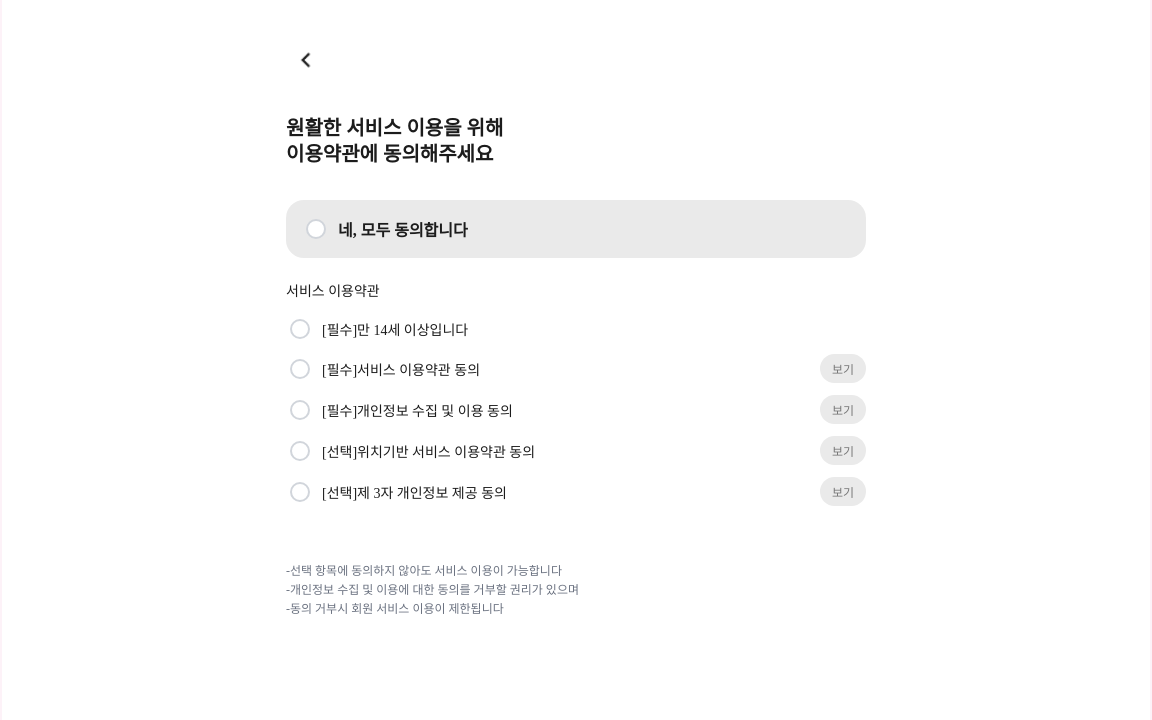
Test: RegisterPage › Step 1 - 약관 동의 › '모두 동의' 해제 시 모든 항목이 해제된다
The width and height of the screenshot is (1152, 720).
// 모두 동의 체크
Click the checkbox next to "네, 모두 동의합니다" at (316, 229), box [306, 219, 326, 239]
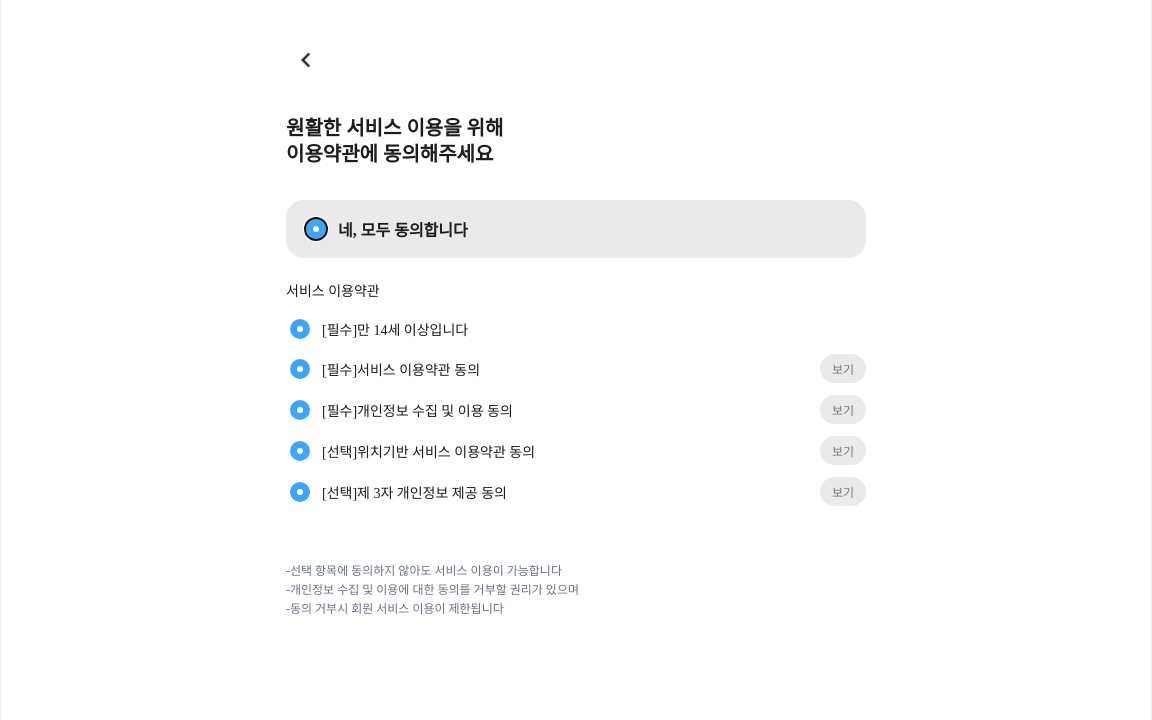
// 모두 동의 해제
Click the checkbox next to "네, 모두 동의합니다" at (316, 229), box [306, 219, 326, 239]
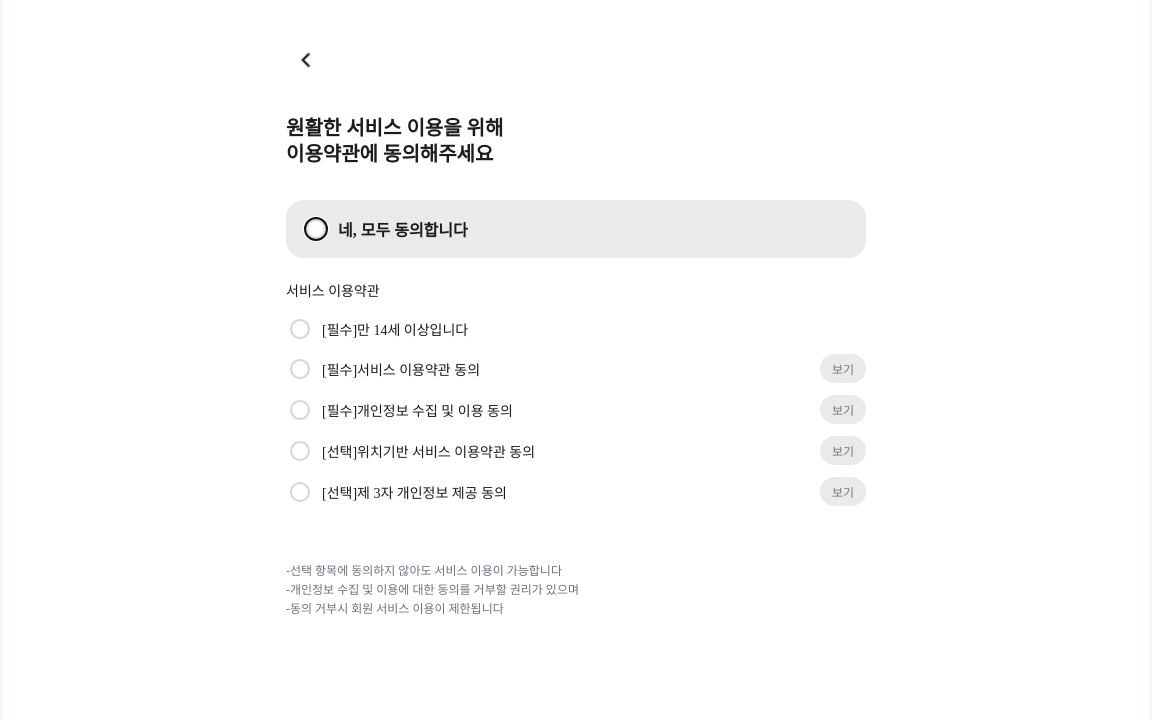
Now the checkbox next to "네, 모두 동의합니다" is not checked, box [306, 219, 326, 239]
Now the checkbox in the row of "만 14세 이상입니다" is not checked, box [290, 319, 310, 339]
Now the 3rd checkbox is not checked, box [290, 358, 310, 378]
